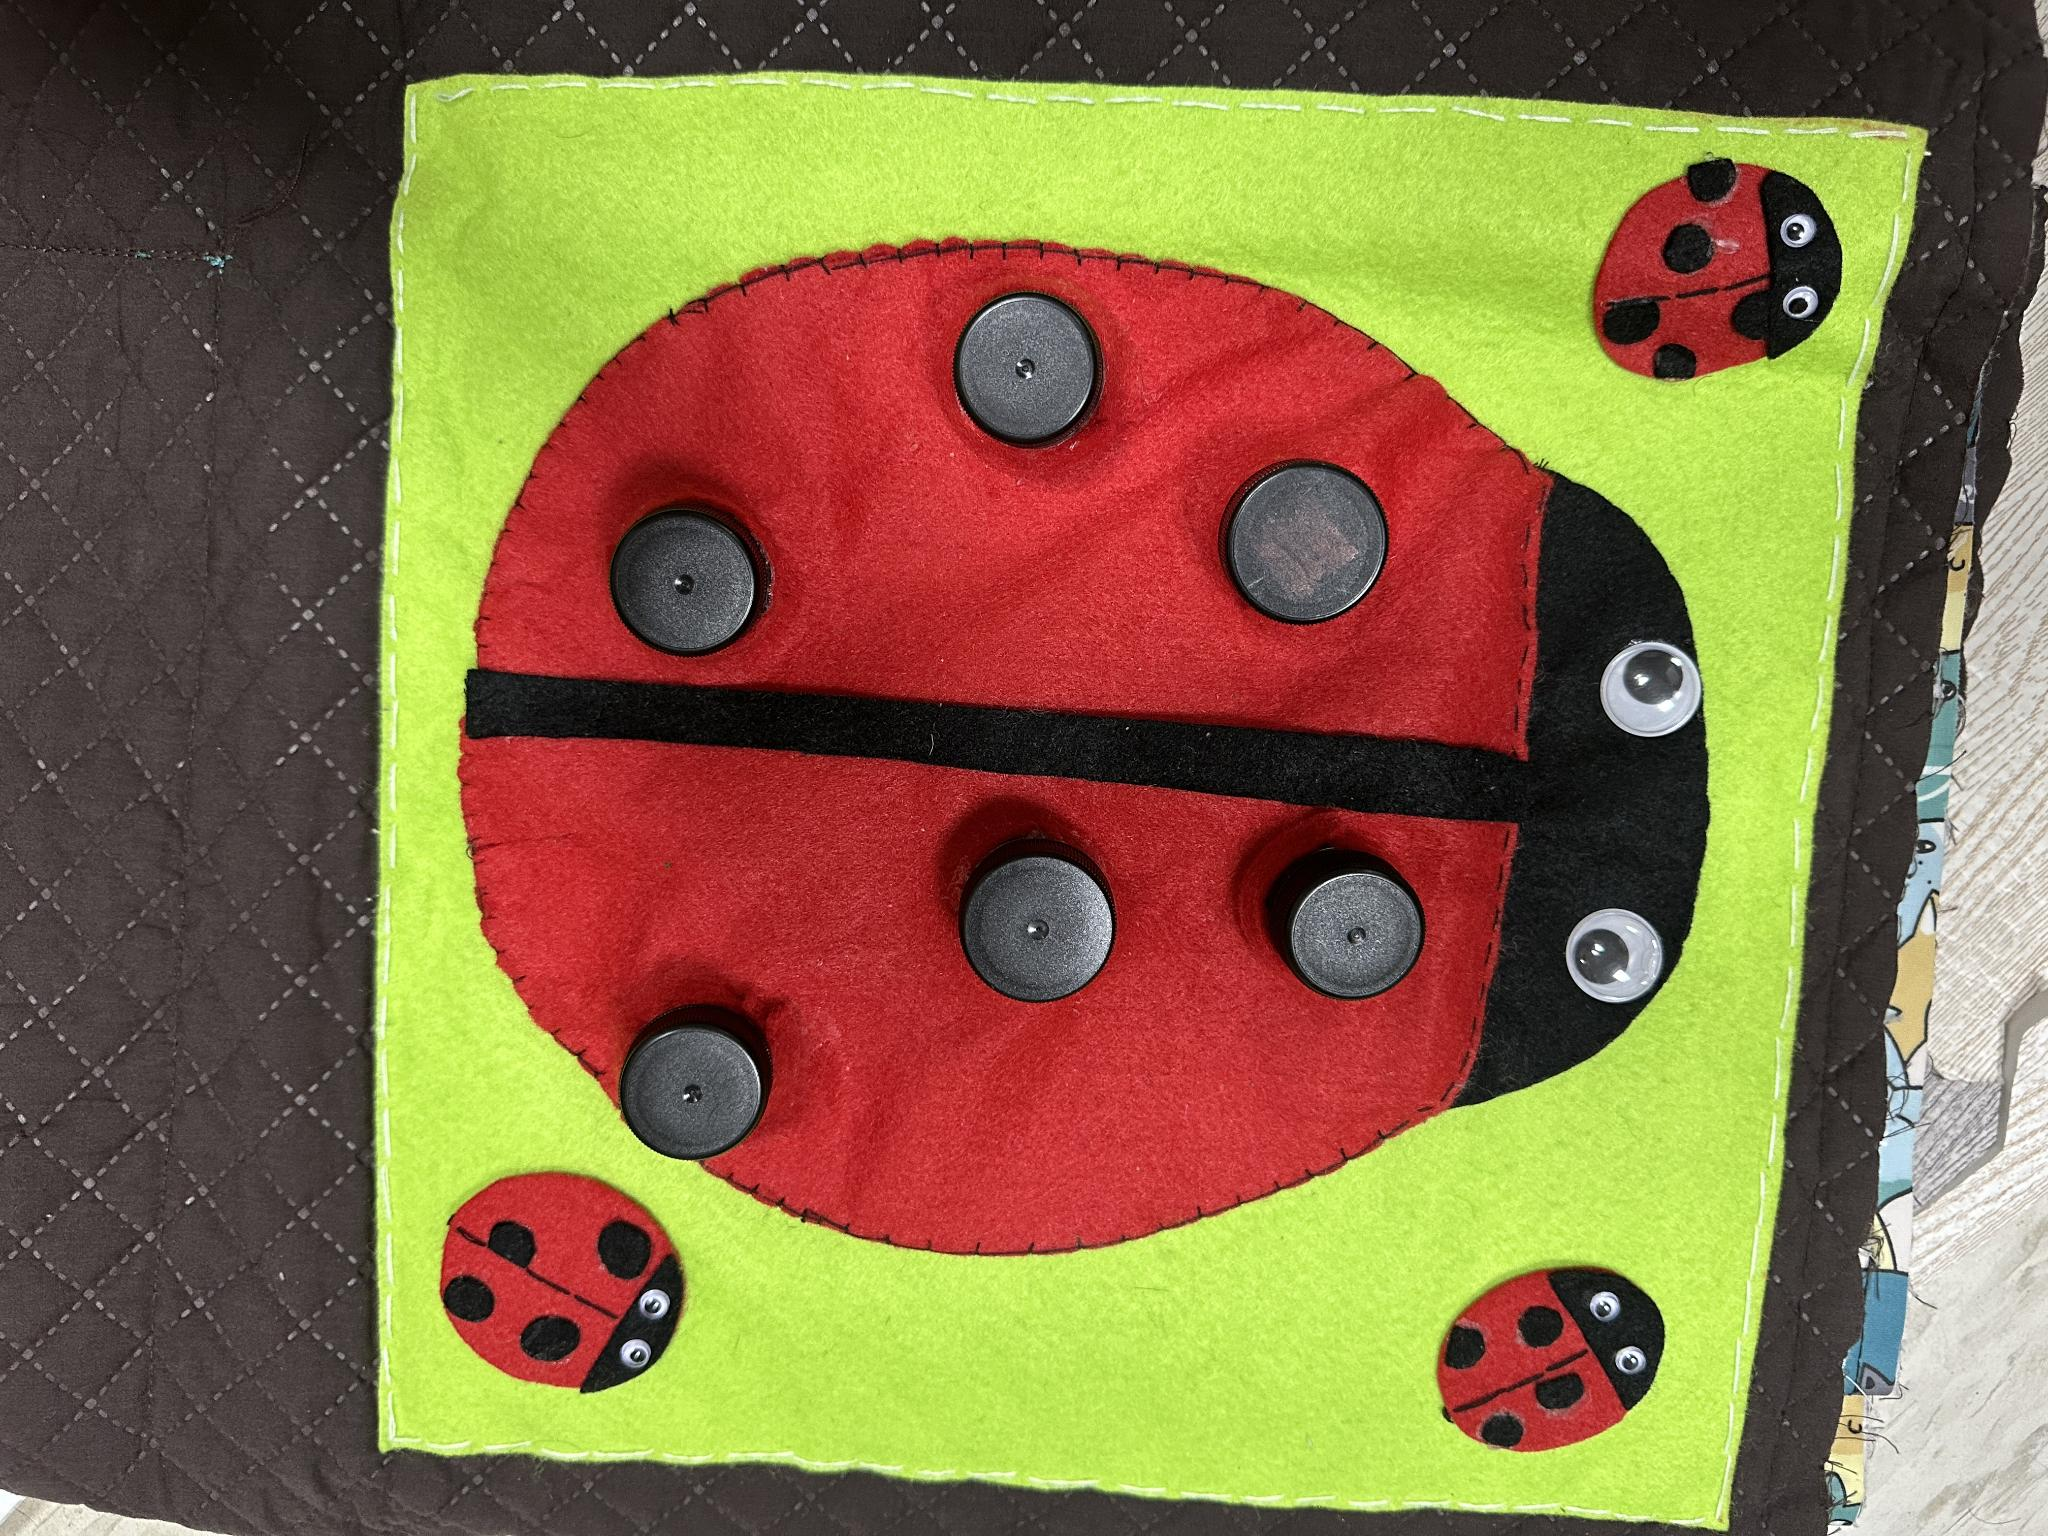cap_ok: (563, 954, 830, 1189), (914, 805, 1168, 1023), (1188, 436, 1424, 647), (1232, 823, 1455, 1028), (597, 468, 801, 673), (935, 268, 1119, 466)
